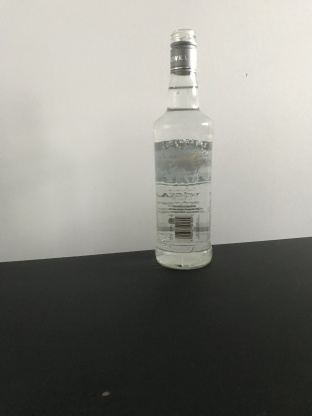nakretka: (168, 29, 198, 76)
